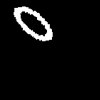chain: (14, 7, 51, 40)
